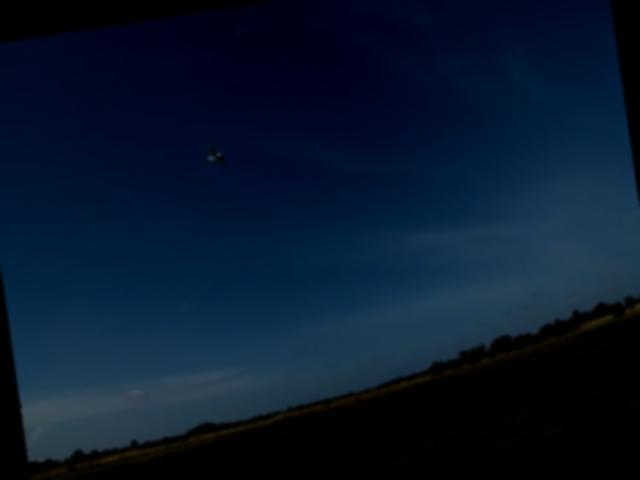uav: (201, 139, 231, 173)
